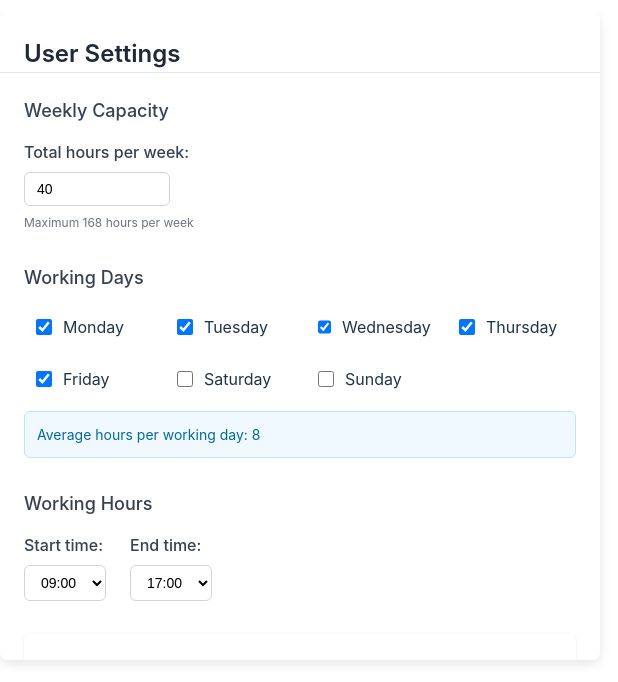
Scenario: UserSettings › resets form when reset button is clicked
The width and height of the screenshot is (618, 682).
Replace the text in the number field labelled "Total hours per week:" with "45": [97, 189] box [24,172,170,206]
(page scrolled)
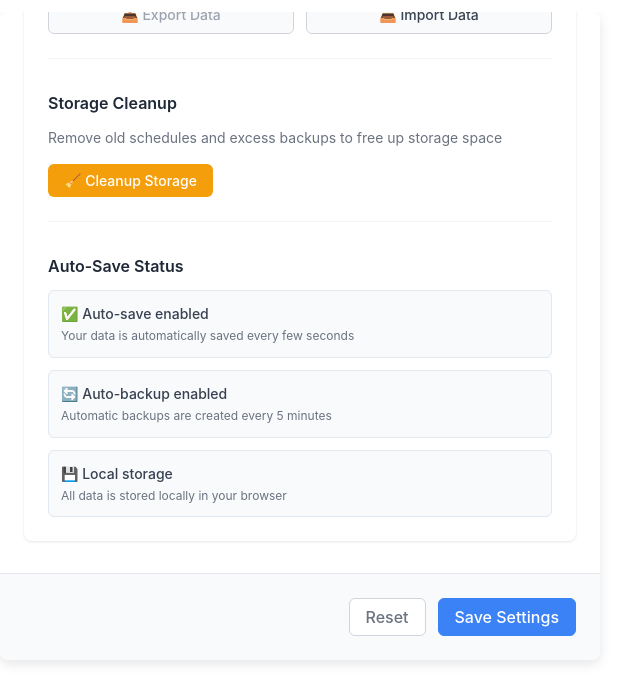
Expected: the button "Reset" is enabled
Click the button "Reset": [387, 617] box [348,598,426,636]
(page scrolled)
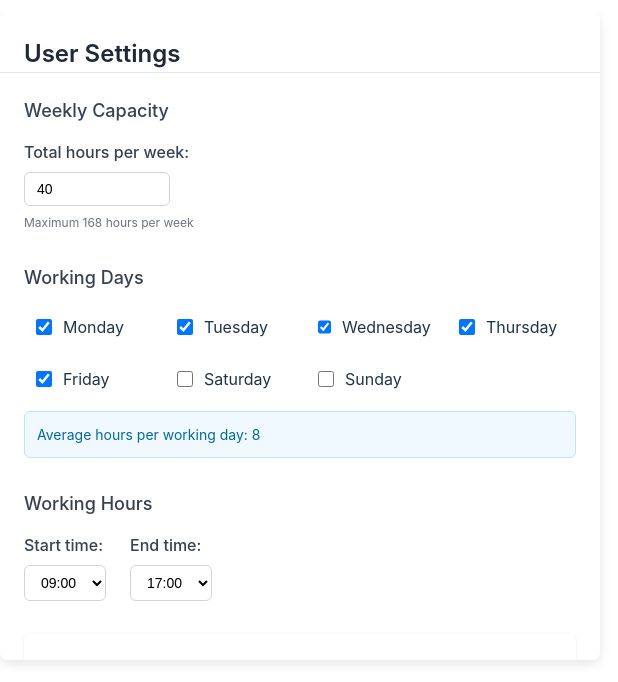
Expected: the number field labelled "Total hours per week:" holds "40", [24,172,170,206]
